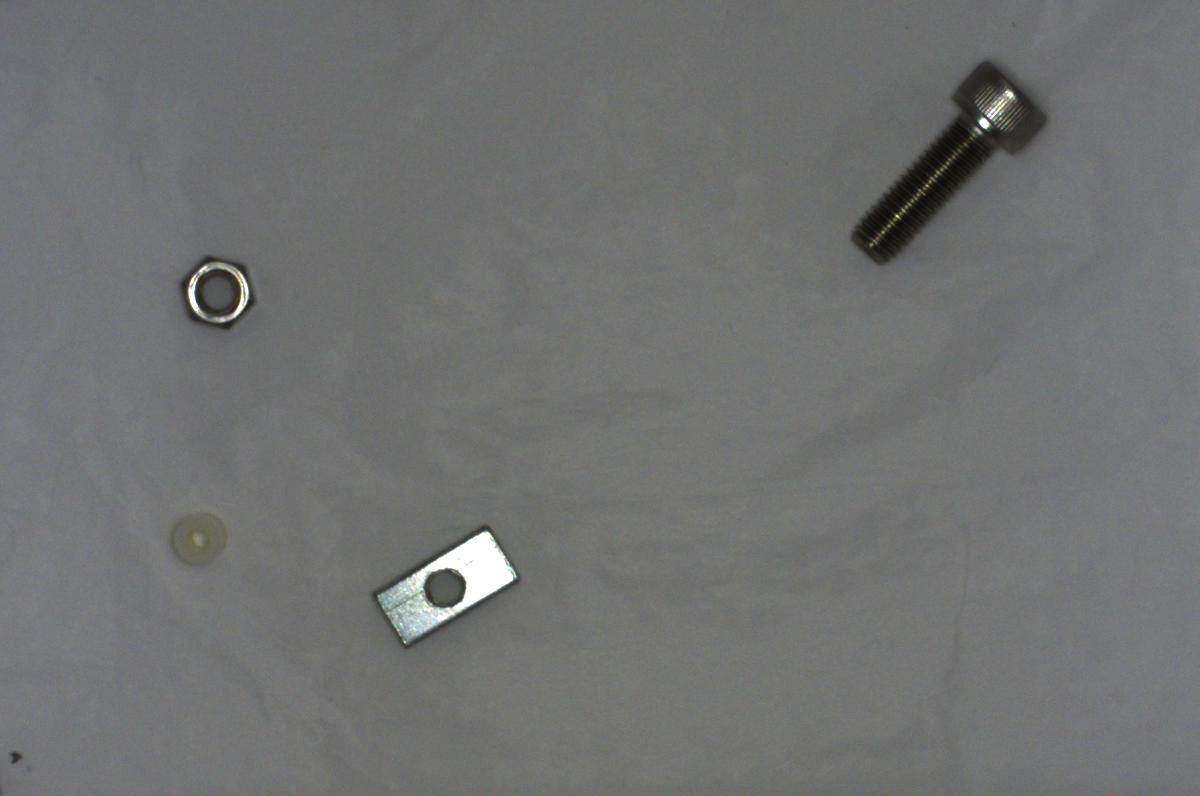Hexagon nut: (166, 248, 266, 336)
Hexagon screw: (817, 61, 1050, 253)
Plastic cushion pillar: (168, 508, 234, 573)
Rectangular nut: (368, 513, 524, 656)
